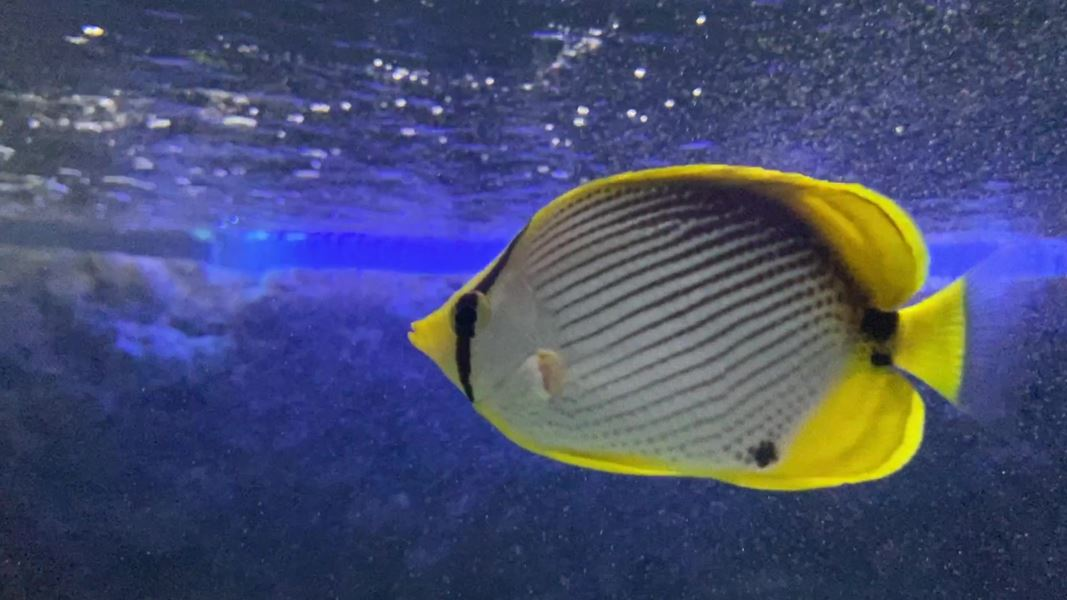Black-backed butterflyfish: (396, 151, 1049, 507)
